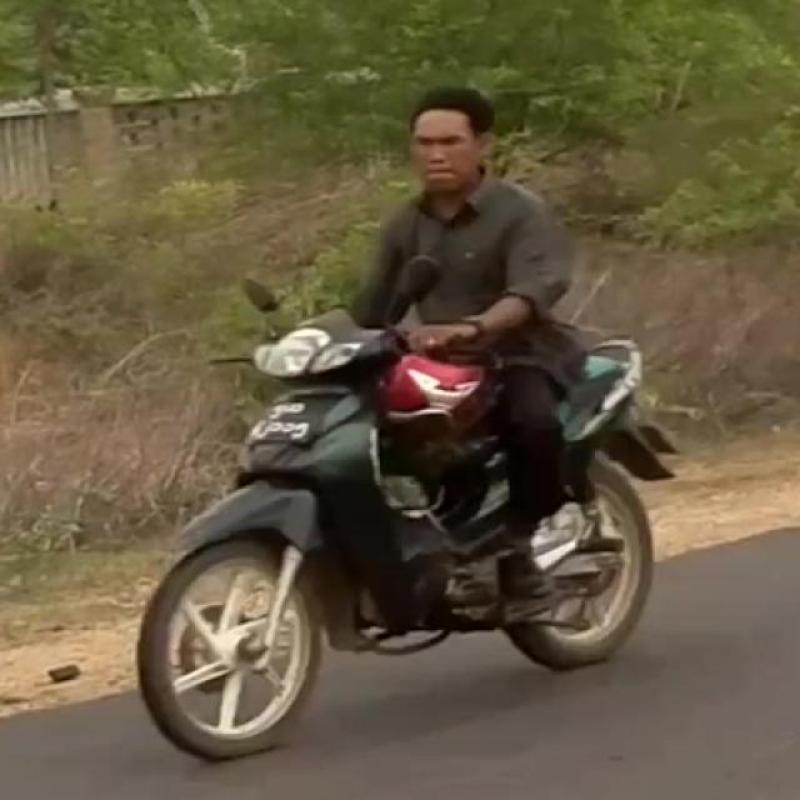nohelmet: (384, 80, 538, 236)
